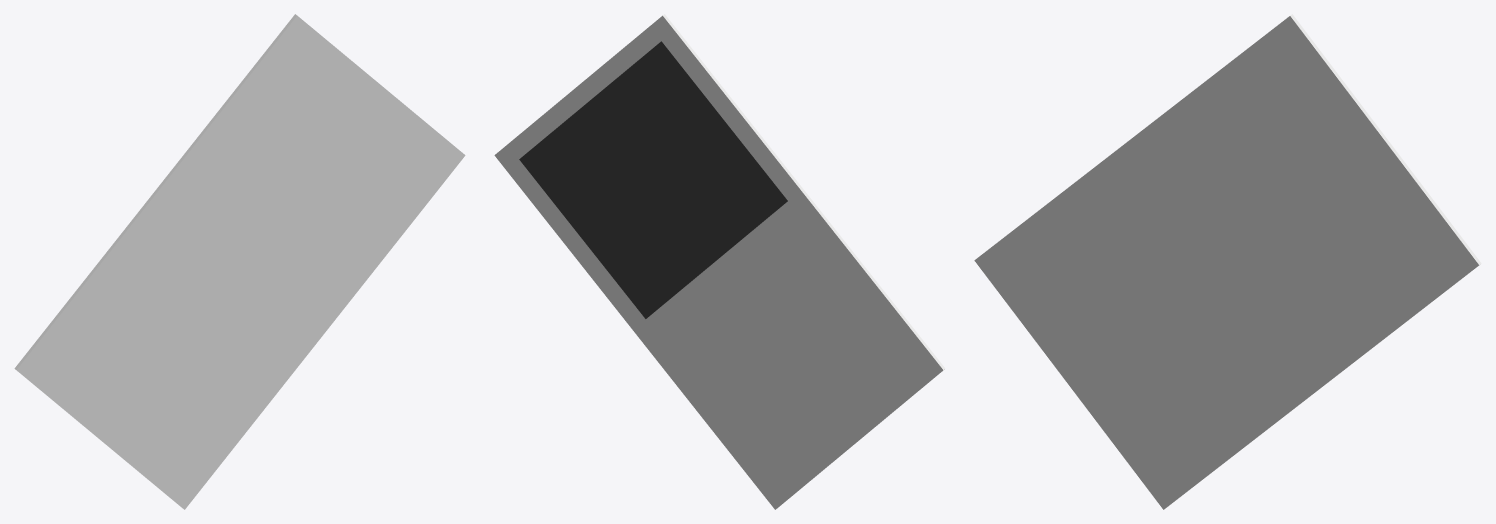
The model's file is Zhaopian.FBX.
3 renders of one model, left to right at view 1: azimuth 30°, elevation 25°; view 2: azimuth 150°, elevation 25°; view 3: azimuth 330°, elevation 25°, orthographic. The views are drawn at different scales.
Parts seen in each view (by area): view 1: Object022; view 2: Object022; view 3: Object022.
Part boxes in pixels (box(x1,y1,x2,y2)): Object022: box(14, 14, 465, 509); Object022: box(494, 14, 945, 509); Object022: box(974, 14, 1481, 509).
Size of the model in its own units: 8.88 by 8.82 by 0.0733.
Materials: 1 (1 with a texture image).
